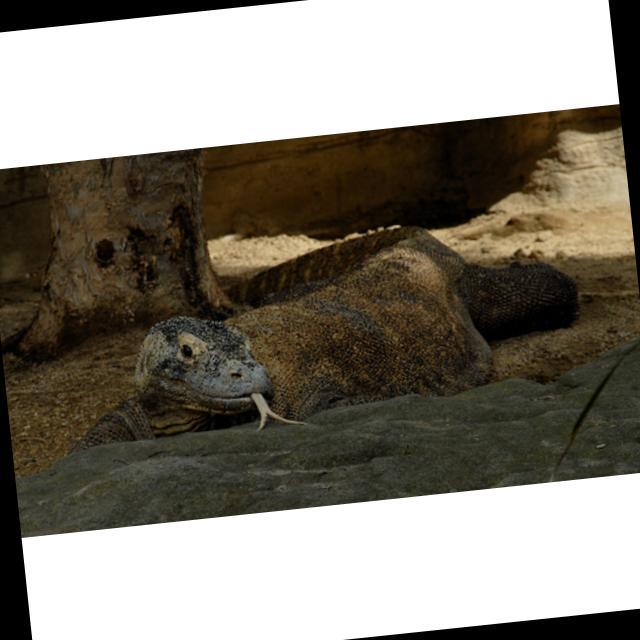KomodoDragon: (42, 201, 588, 453)
